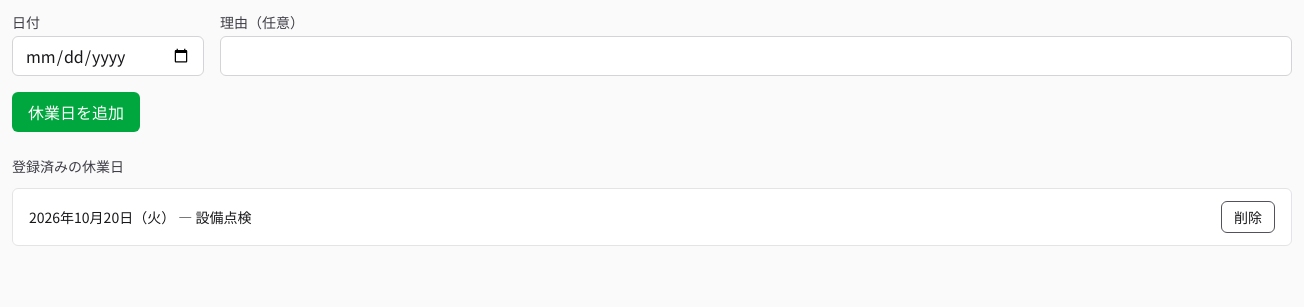
追加 › すでに休業日なら、日付欄の下に出す
The image size is (1304, 307).
Type "2026-10-20" into the date field labelled "日付" at (108, 56), box [12,36,204,76]
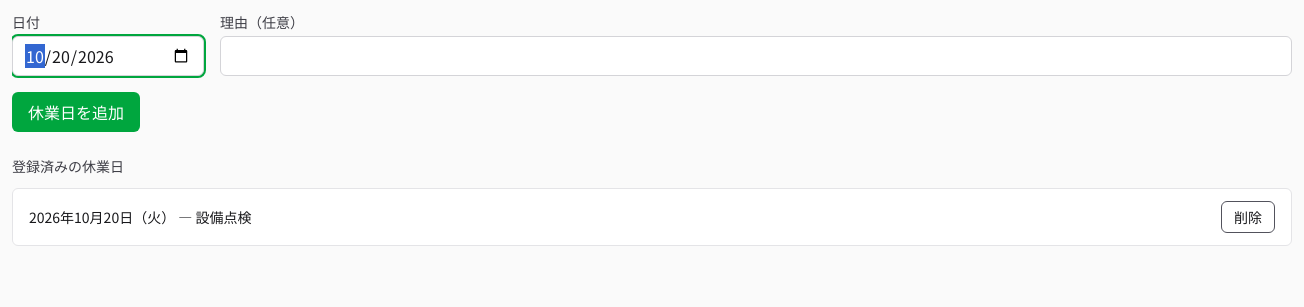
Click the button "休業日を追加" at (76, 112), box [12,92,140,132]
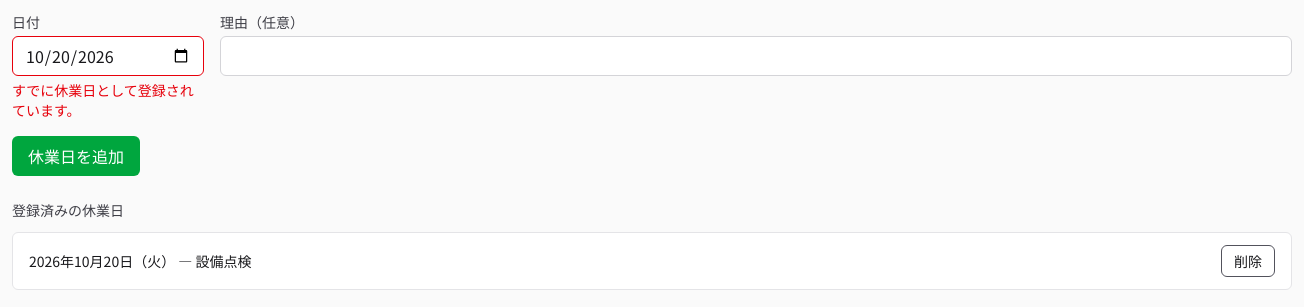
expect the text "すでに休業日として登録されています。" is shown: met, box [12,80,204,120]
